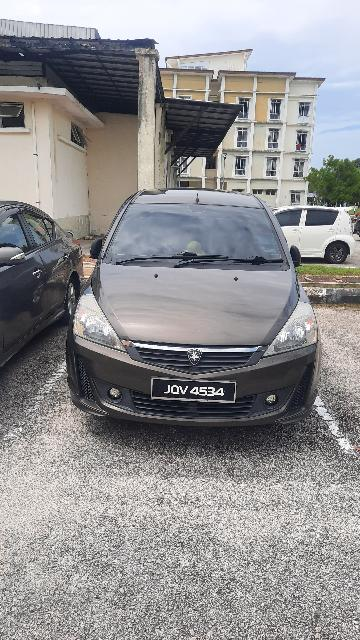License_Plate: (151, 372, 247, 410)
car: (72, 166, 340, 460)
